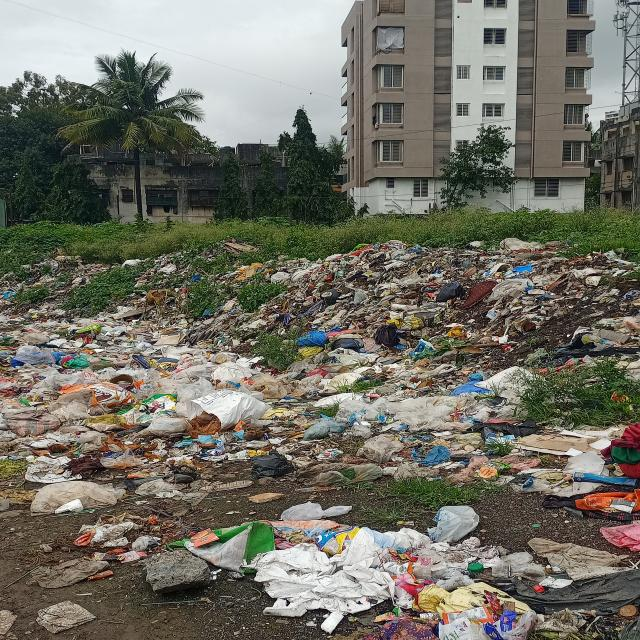garbage: (1, 245, 640, 488), (112, 502, 640, 640)
